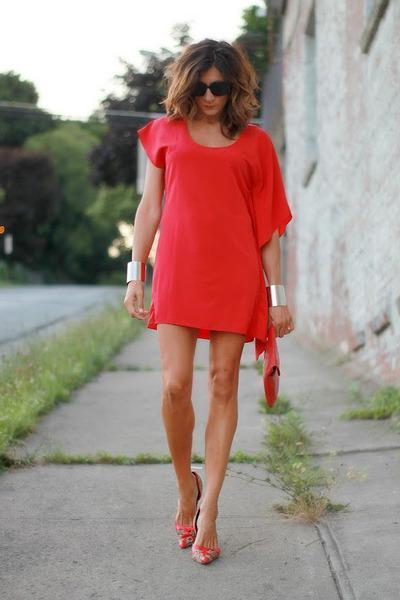dress: (133, 115, 295, 332)
